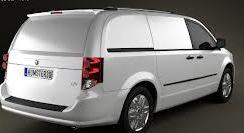back_view: (0, 49, 114, 125)
backlight: (80, 54, 116, 99)
side_glass: (158, 15, 215, 51)
